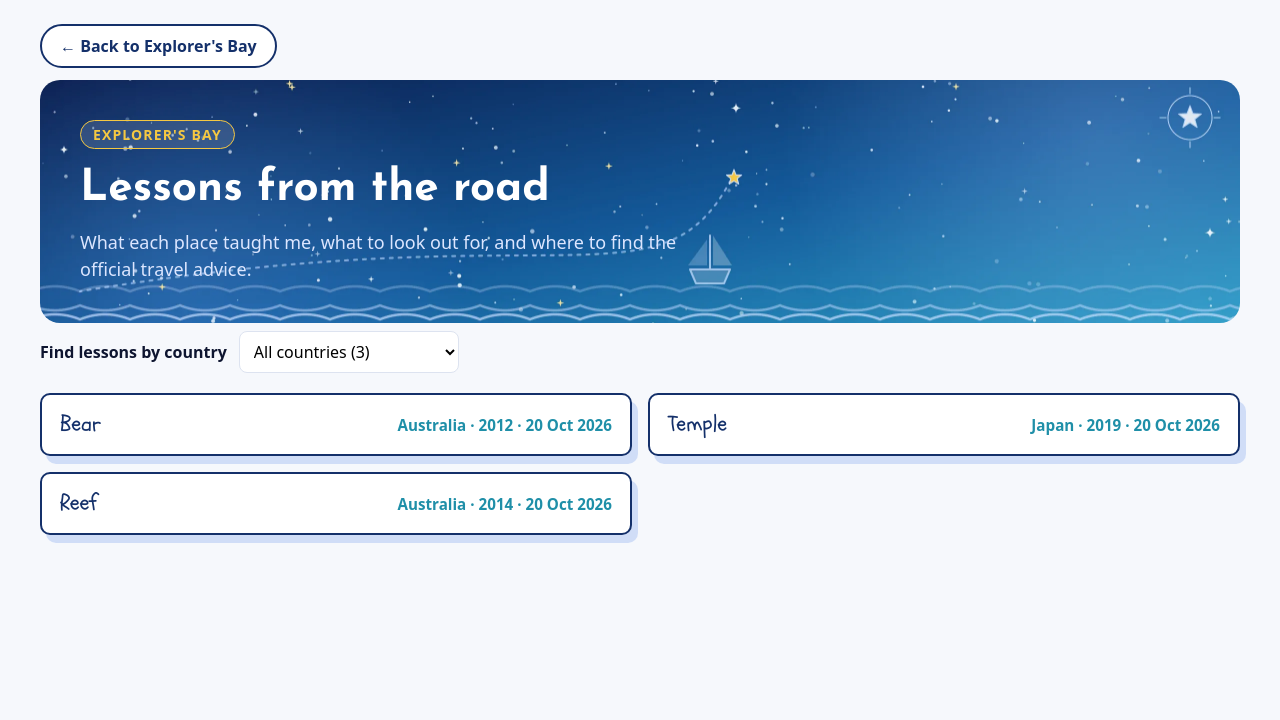
Scenario: the country dropdown › narrows the list to the chosen country, and back again
Expected: the number of links with class "rp-entry" is 3, [40,393,632,456]; [648,393,1240,456]; [40,472,632,535]
Select "Japan (1)" in the dropdown labelled "Find lessons by country" at point(349, 352), box [239,331,459,373]
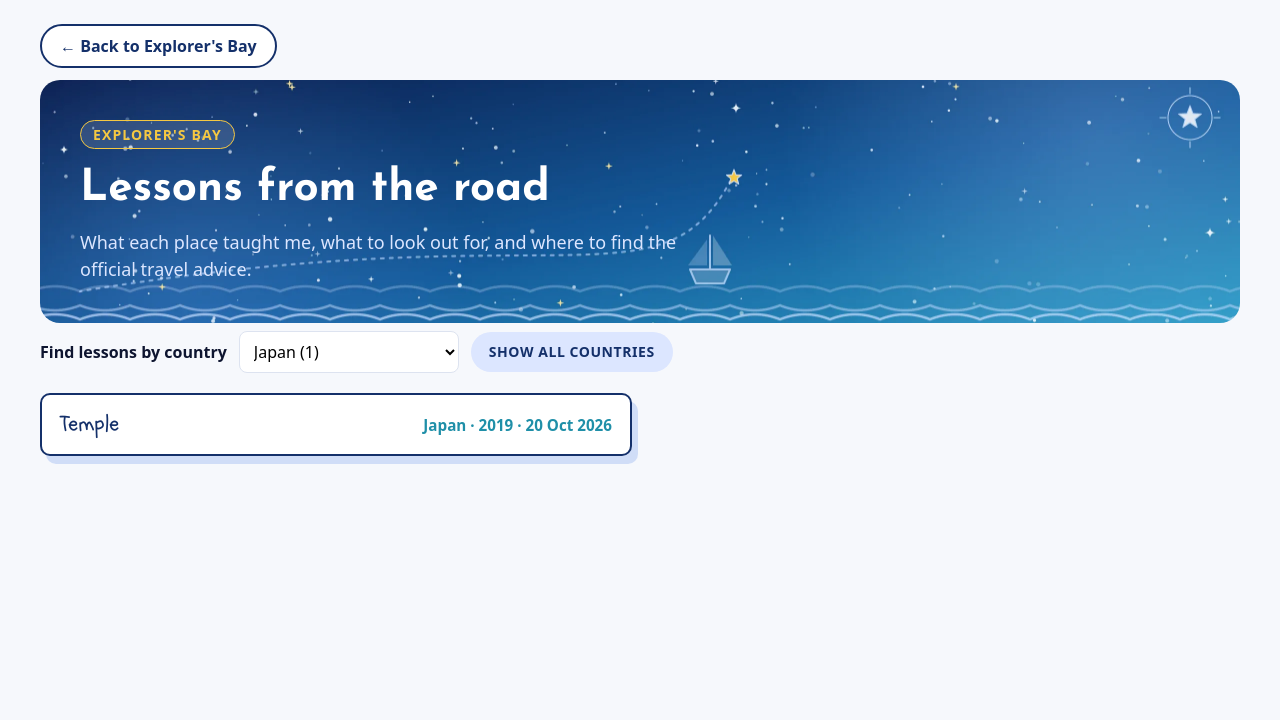
Expected: the text "Temple" is shown, [60,411,119,438]
Now the number of links with class "rp-entry" is 1, box [40,393,632,456]
Select "All countries (3)" in the dropdown labelled "Find lessons by country" at point(349, 352), box [239,331,459,373]
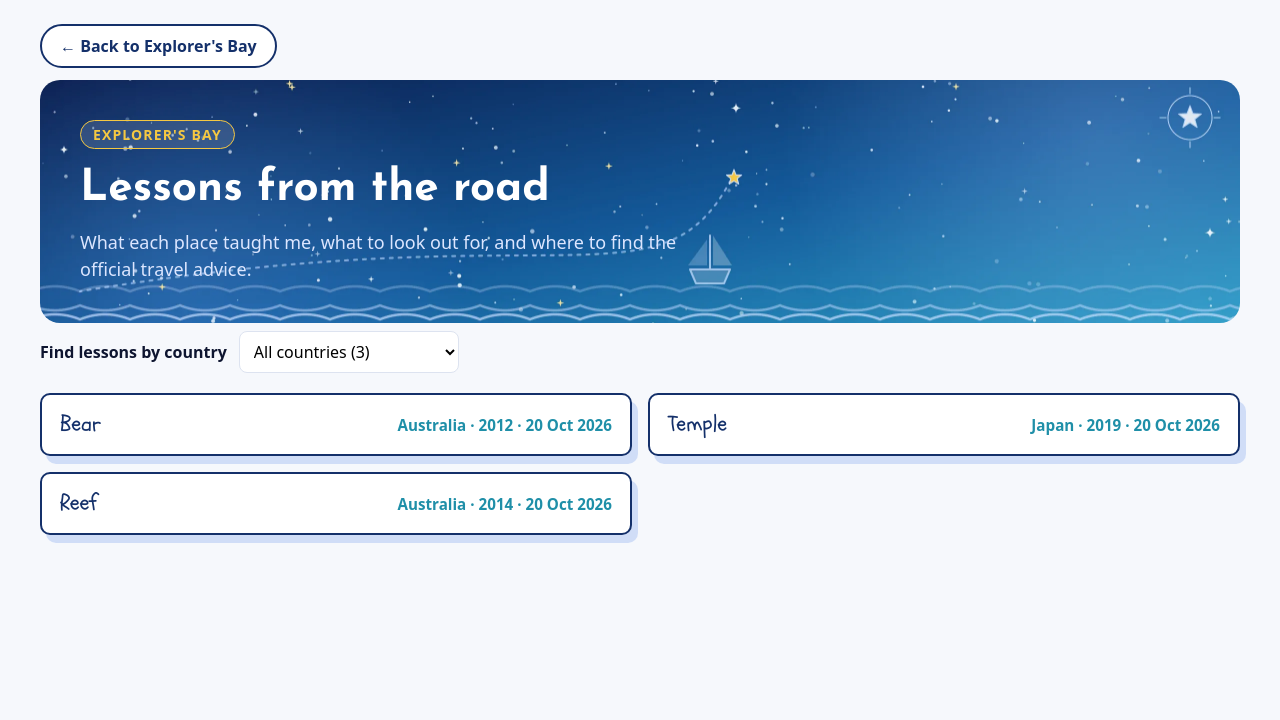
Now the number of links with class "rp-entry" is 3, box [40,393,632,456]; [648,393,1240,456]; [40,472,632,535]
